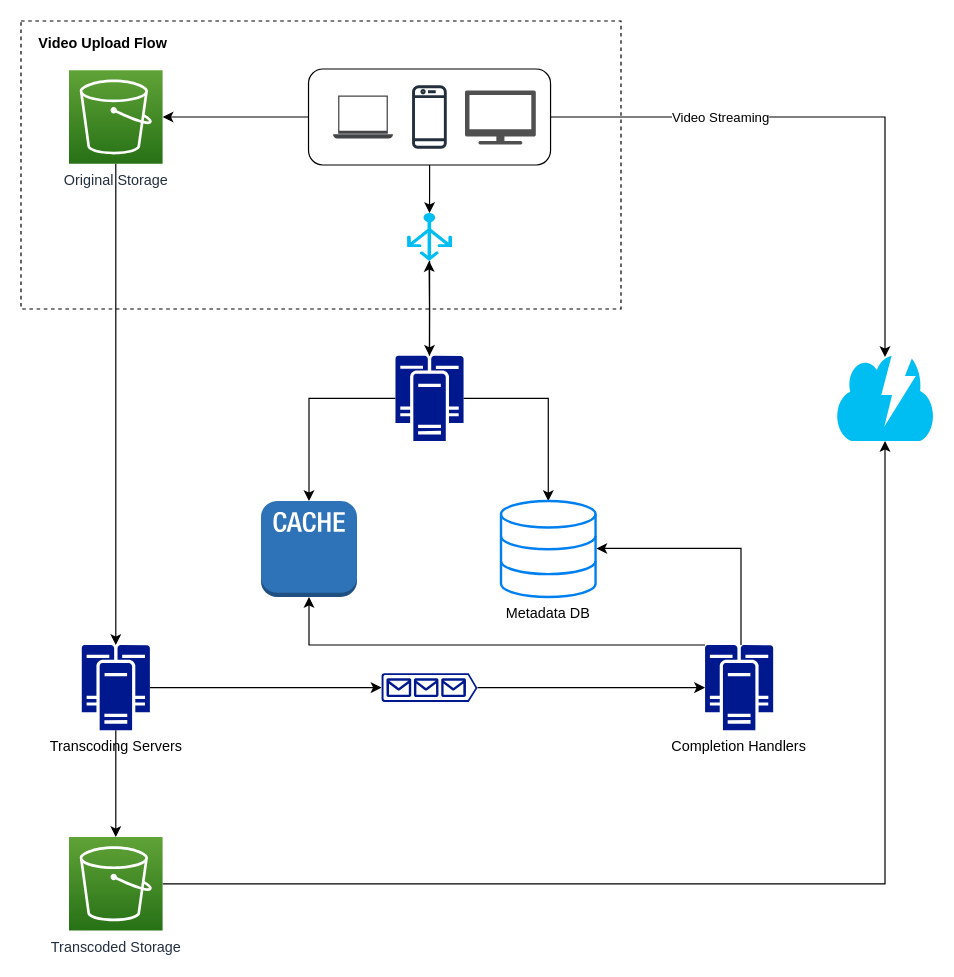
Some shapes in this 954 by 977 pixel diagram are drawn without their labels. The box of each missing label's shape, as (x1, y1, x2, y2) in pixels:
API Servers: (395, 355, 463, 440)
Metadata Cache: (260, 500, 357, 597)
